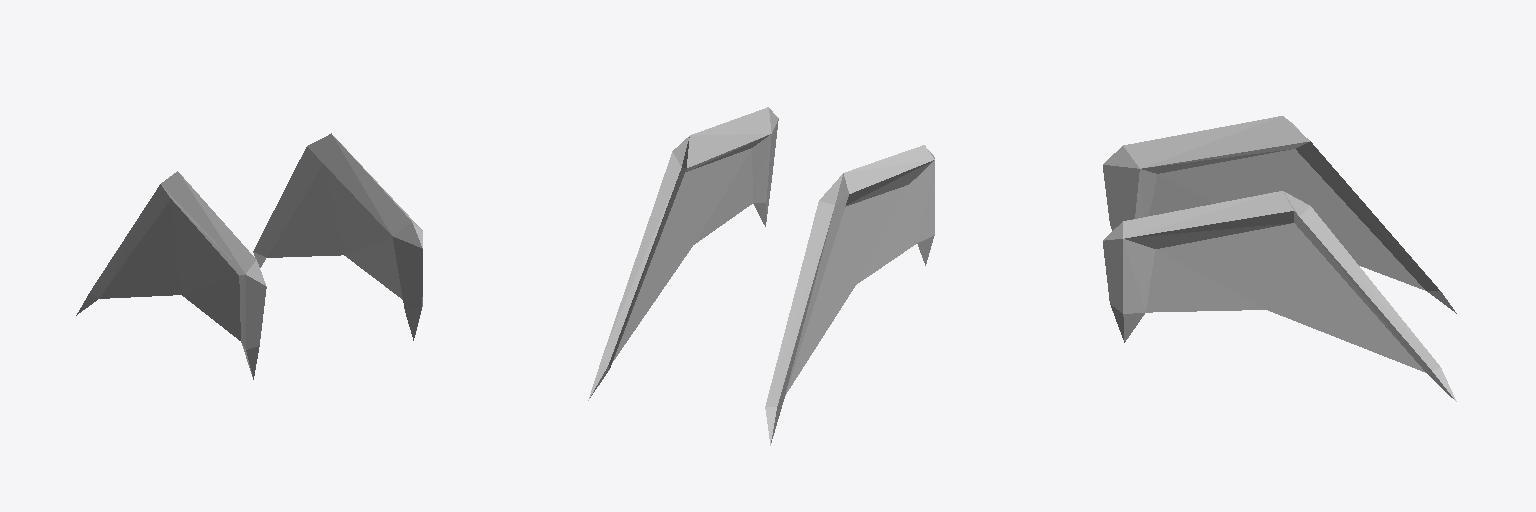
The model's file is wing01.obj.
The picture shows the model from 3 angles: view 1: azimuth 30°, elevation 25°; view 2: azimuth 150°, elevation 25°; view 3: azimuth 270°, elevation 25°; orthographic projection.
Visible parts, largest first — view 1: wing1 wing1_matWing, wing1_matMain wing1; view 2: wing1_matMain wing1, wing1 wing1_matWing; view 3: wing1 wing1_matWing, wing1_matMain wing1.
Part boxes in pixels (left/top/right/bottom): wing1 wing1_matWing: left=99, top=164, right=402, bottom=340; wing1_matMain wing1: left=76, top=133, right=422, bottom=379; wing1_matMain wing1: left=588, top=107, right=934, bottom=445; wing1 wing1_matWing: left=612, top=148, right=916, bottom=393; wing1 wing1_matWing: left=1146, top=149, right=1425, bottom=372; wing1_matMain wing1: left=1103, top=116, right=1456, bottom=401.
Size of the model in its own units: 0.7122 by 0.7665 by 1.2.